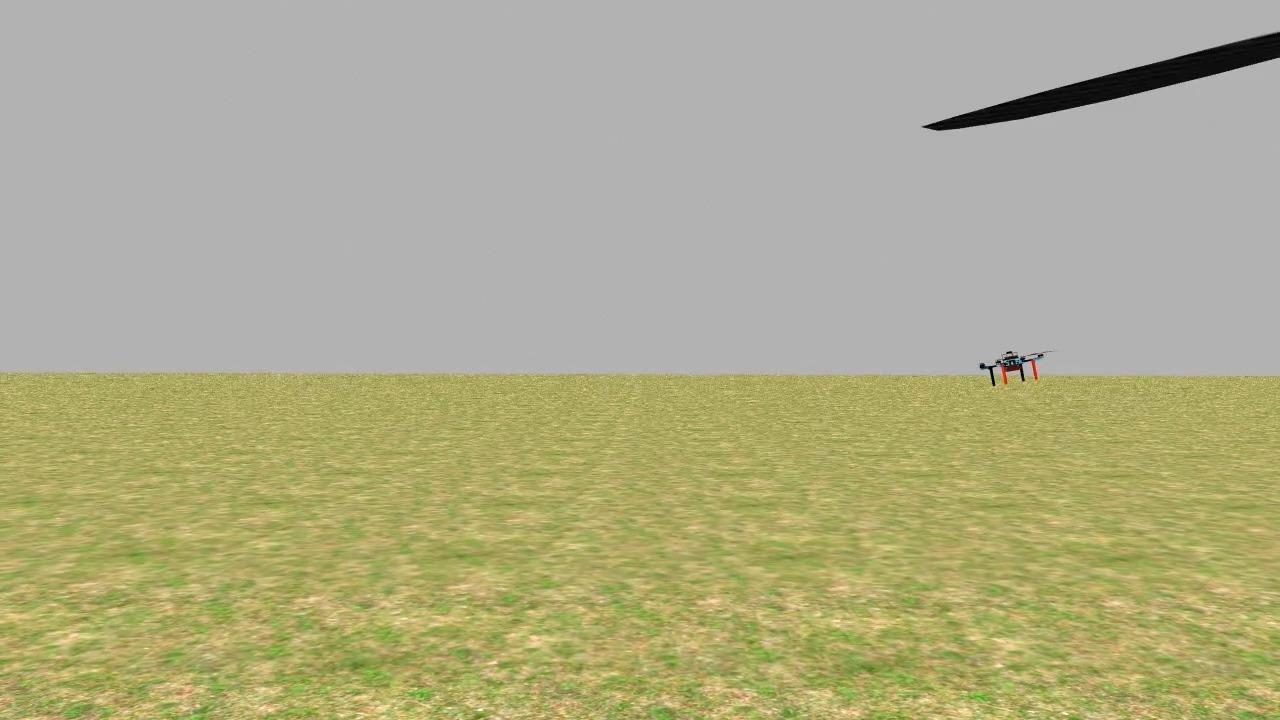UAV: (974, 340, 1056, 393)
